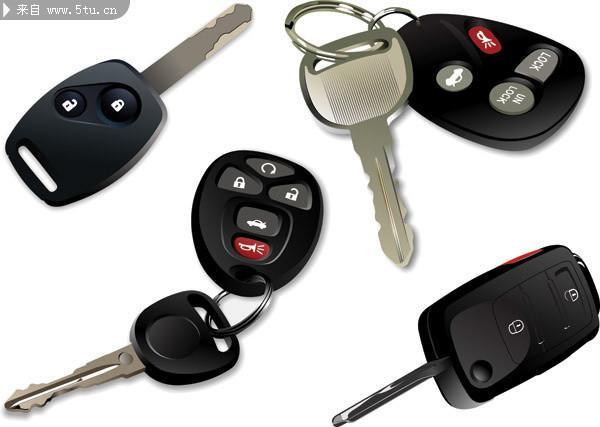key: (4, 1, 269, 211), (324, 234, 599, 426), (285, 15, 455, 275), (3, 286, 264, 417)
